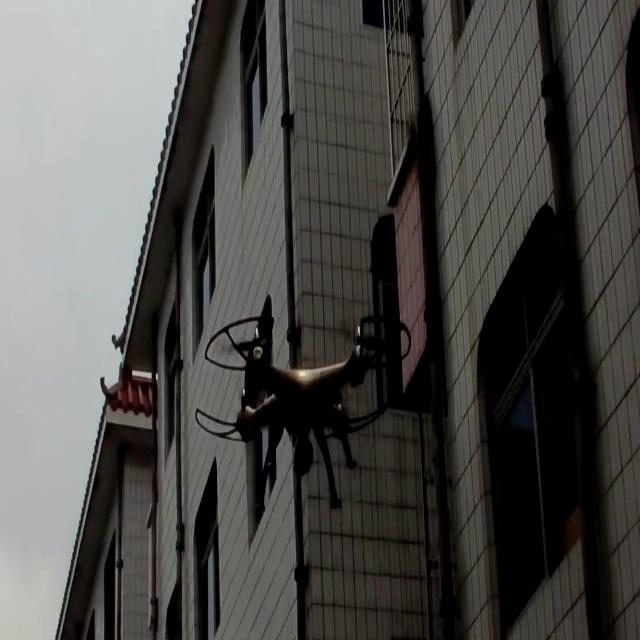drone: (193, 292, 412, 516)
